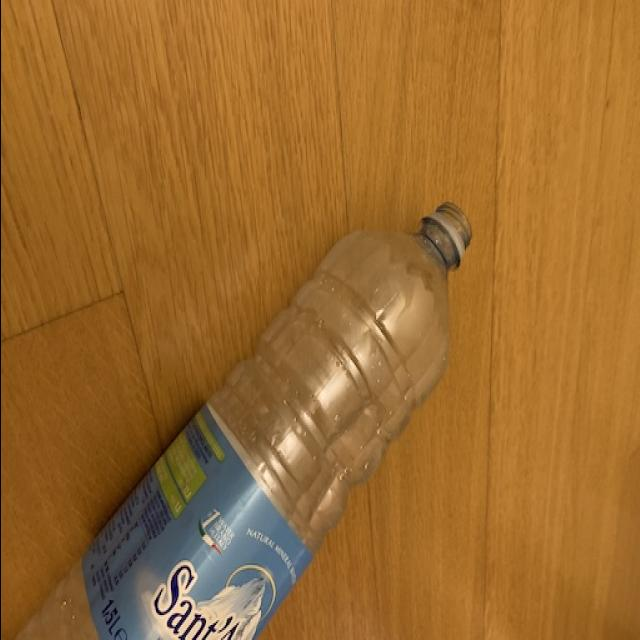PET: (12, 193, 482, 637)
